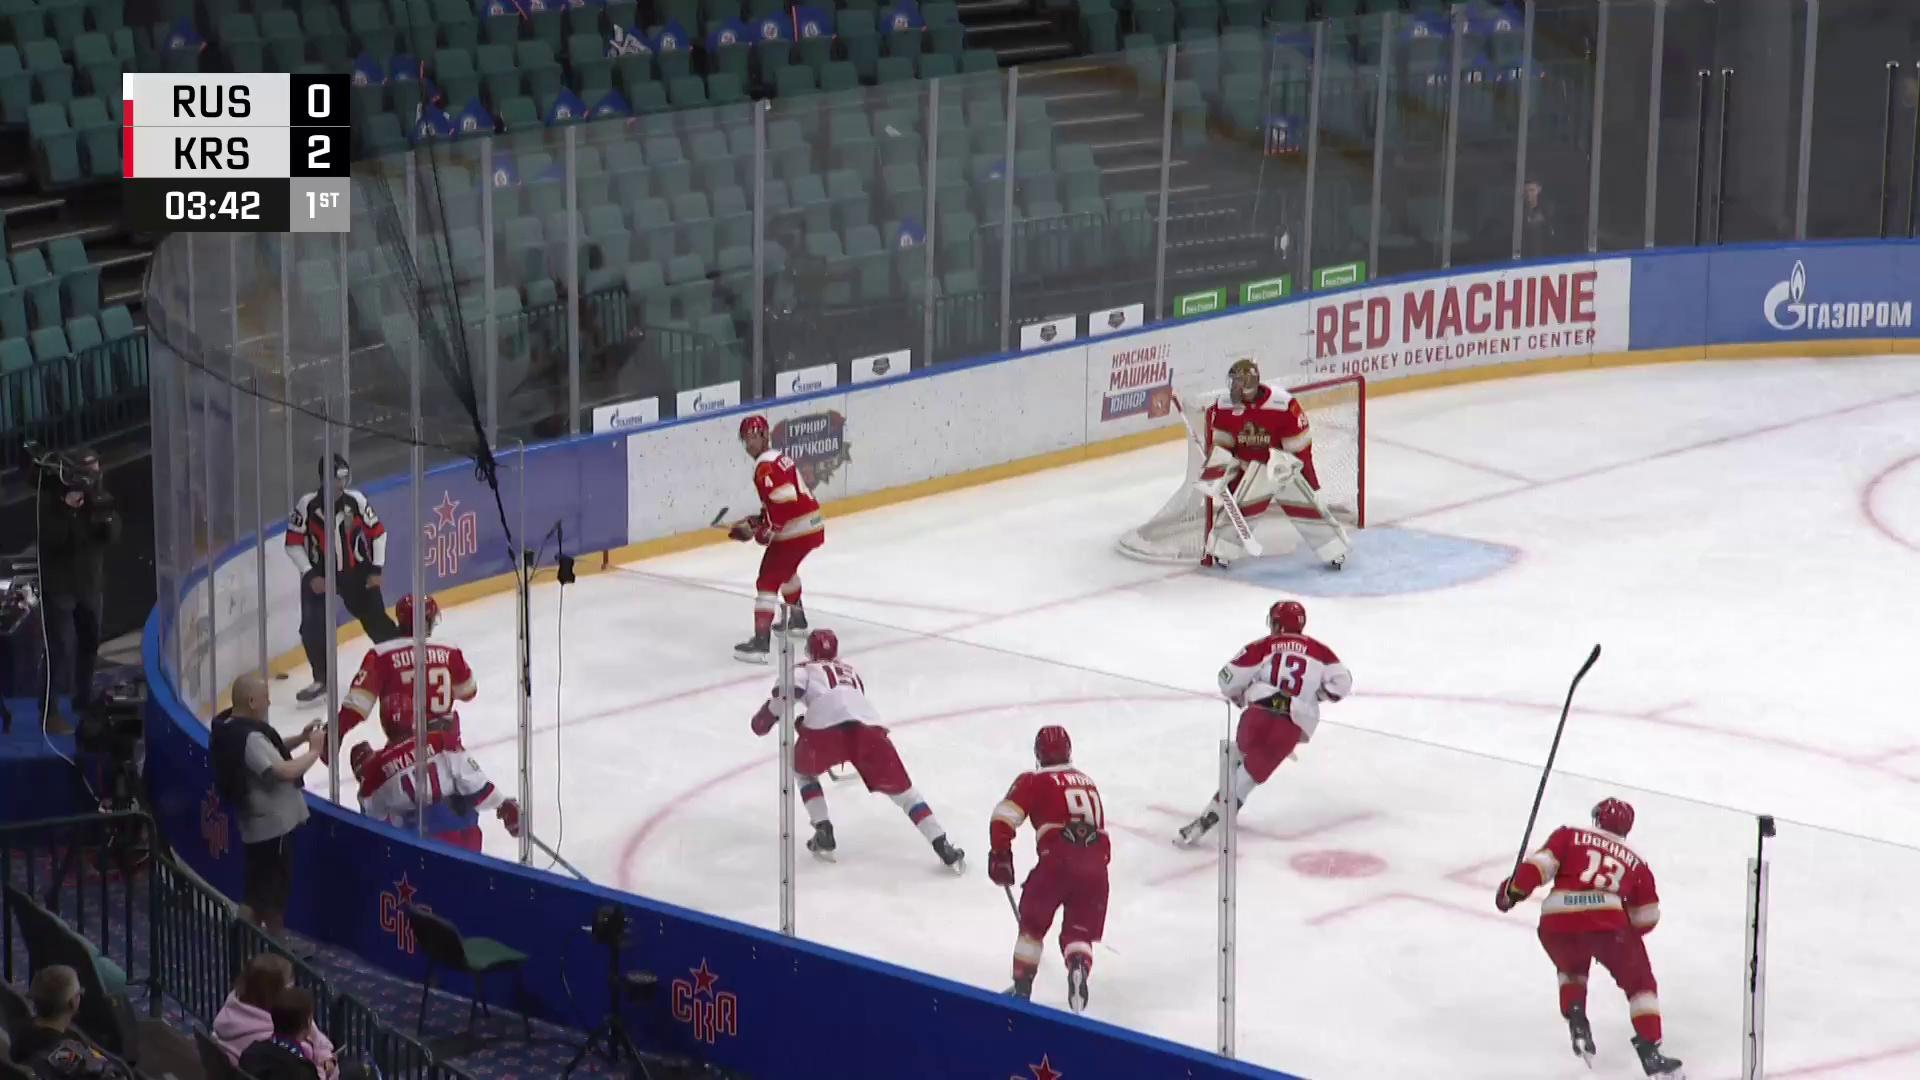ball: (272, 671, 291, 683)
